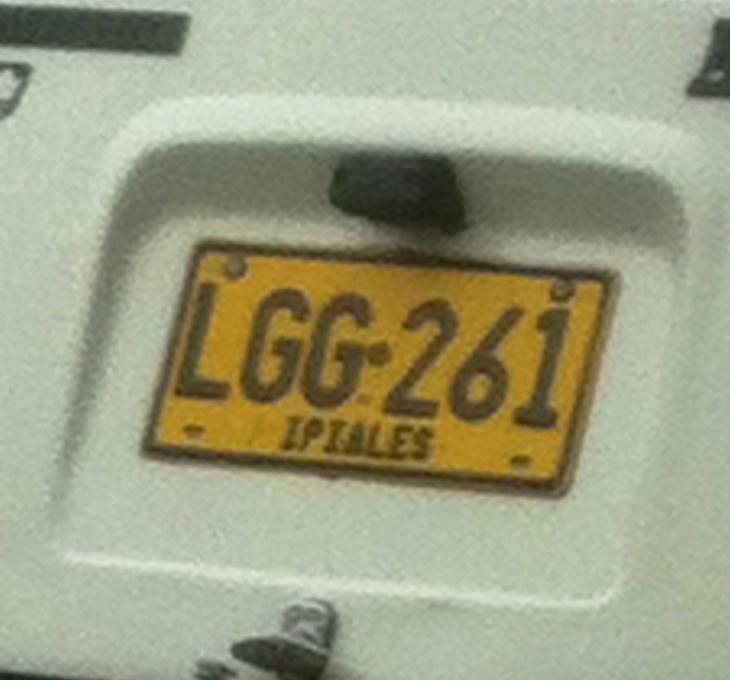placas: (137, 218, 626, 510)
